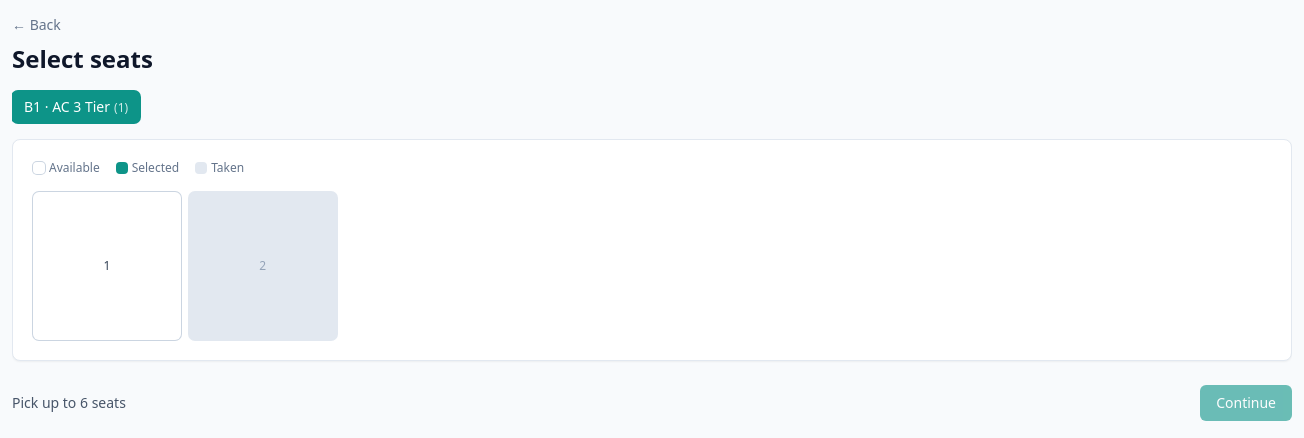
Test case: SeatSelectionPage › renders the seat grid and toggles an available seat
Expected: the button named "Seat 2 (taken)" is disabled, [189,192,337,340]
What coordinates should you click on to do the following:
click the button named "Seat 1"
I would click on:
 (107, 266)
Its box is [33,192,181,340].
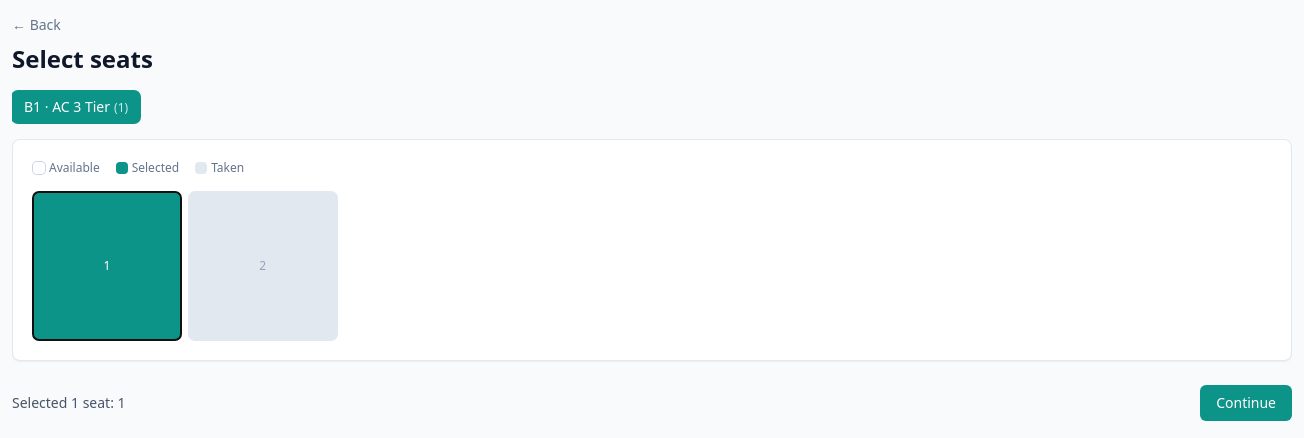
Now the text "Selected 1 seat: 1" is shown, box [12,393,126,413]
Now the button "Continue" is enabled, box [1200,385,1292,421]
